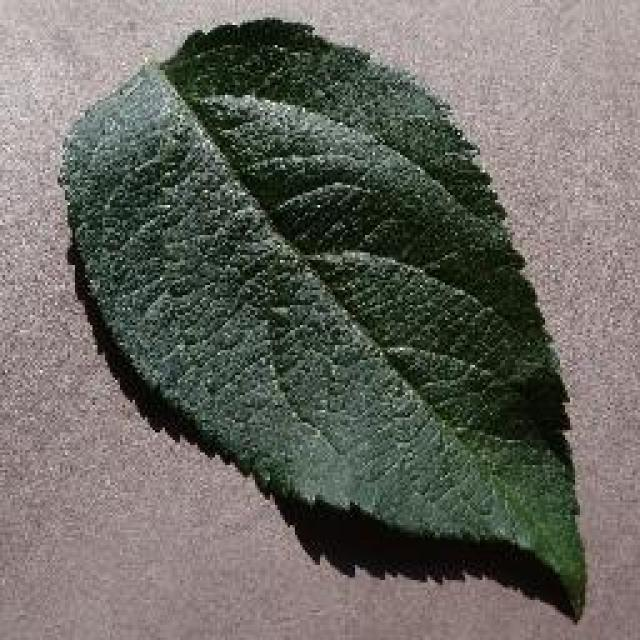apple healthy: (55, 12, 587, 622)
